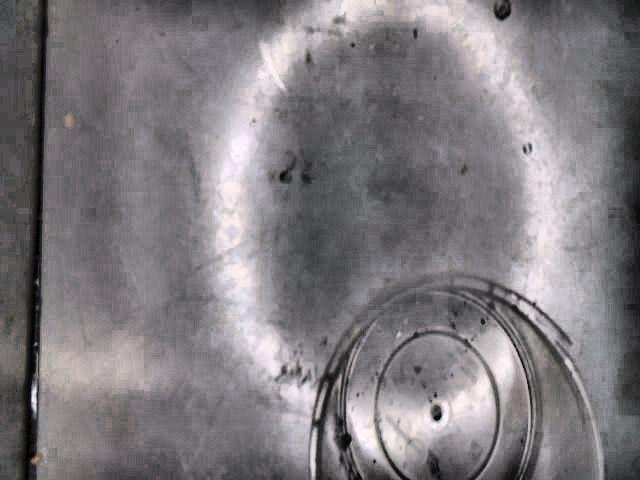Plastic: (306, 278, 608, 480)
